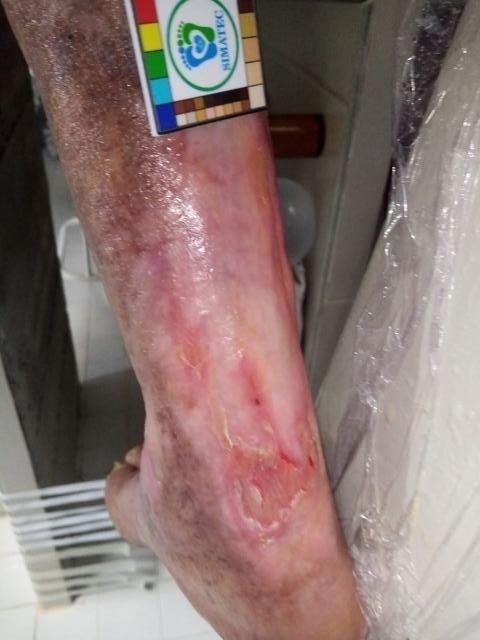wound: (226, 418, 322, 529), (247, 372, 269, 417)
